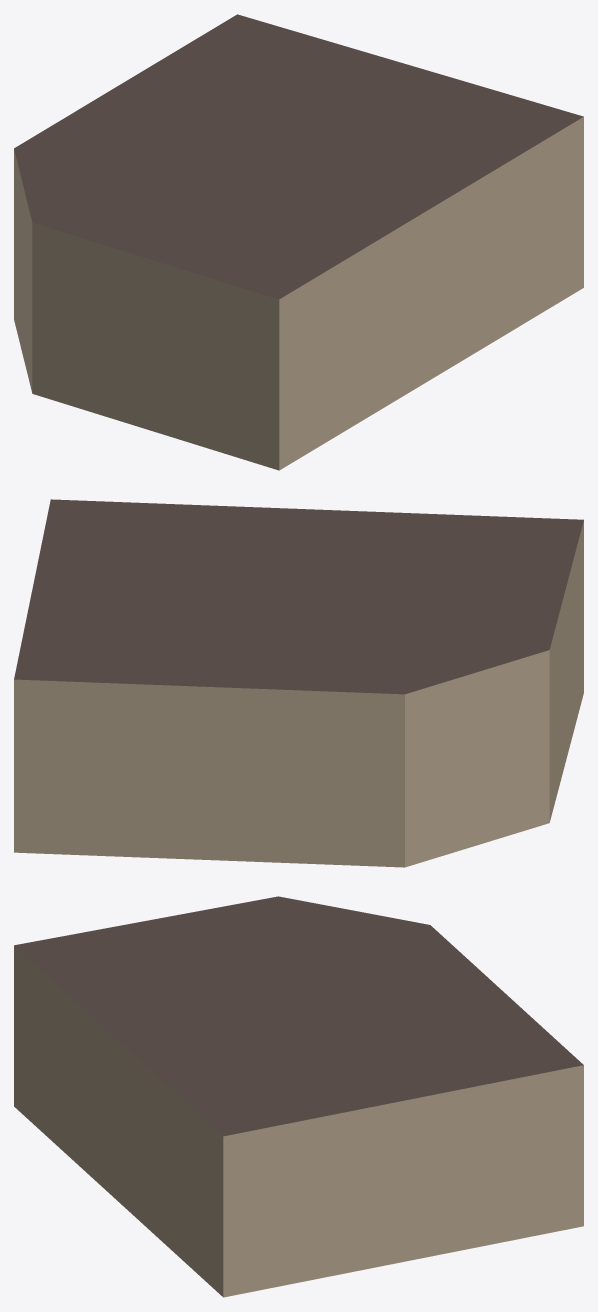
3 renders of one model, top to bottom at view 1: azimuth 30°, elevation 25°; view 2: azimuth 150°, elevation 25°; view 3: azimuth 270°, elevation 25°, orthographic. The views are drawn at different scales.
Visible parts, largest first — view 1: HP-w373833611; view 2: HP-w373833611; view 3: HP-w373833611.
Boxes of the visible parts, x1=… form: HP-w373833611: x1=14, y1=14, x2=583, y2=470; HP-w373833611: x1=14, y1=499, x2=583, y2=867; HP-w373833611: x1=14, y1=896, x2=583, y2=1297.
Size of the model in its own units: 28.75 by 9 by 28.85.
